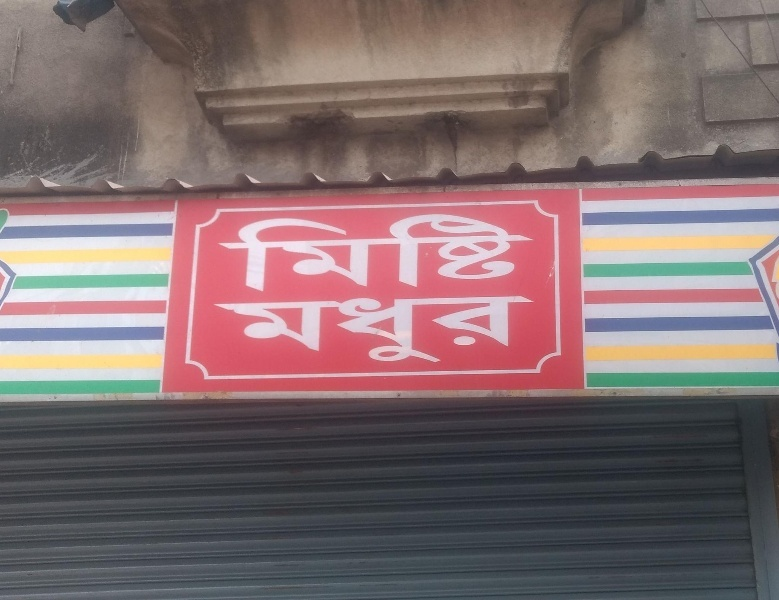text: (225, 210, 240, 293), (241, 210, 256, 293), (257, 210, 272, 293), (273, 210, 288, 293), (289, 210, 304, 293), (305, 210, 320, 293), (321, 210, 336, 293), (337, 210, 352, 293), (353, 210, 368, 293), (369, 210, 384, 293), (385, 210, 400, 293), (401, 210, 416, 293), (417, 210, 432, 293), (433, 210, 448, 293), (449, 210, 464, 293), (465, 210, 480, 293), (481, 210, 496, 293), (497, 210, 512, 293), (513, 210, 528, 293), (225, 293, 240, 375), (241, 293, 256, 375), (257, 293, 272, 375), (273, 293, 288, 375), (289, 293, 304, 375), (305, 293, 320, 375), (321, 293, 336, 375), (337, 293, 352, 375), (353, 293, 368, 375), (369, 293, 384, 375), (385, 293, 400, 375), (401, 293, 416, 375), (417, 293, 432, 375), (433, 293, 448, 375), (449, 293, 464, 375), (465, 293, 480, 375), (481, 293, 496, 375), (497, 293, 512, 375), (513, 293, 528, 375), (210, 293, 224, 375), (529, 210, 542, 293), (215, 210, 224, 293), (529, 293, 538, 375)
